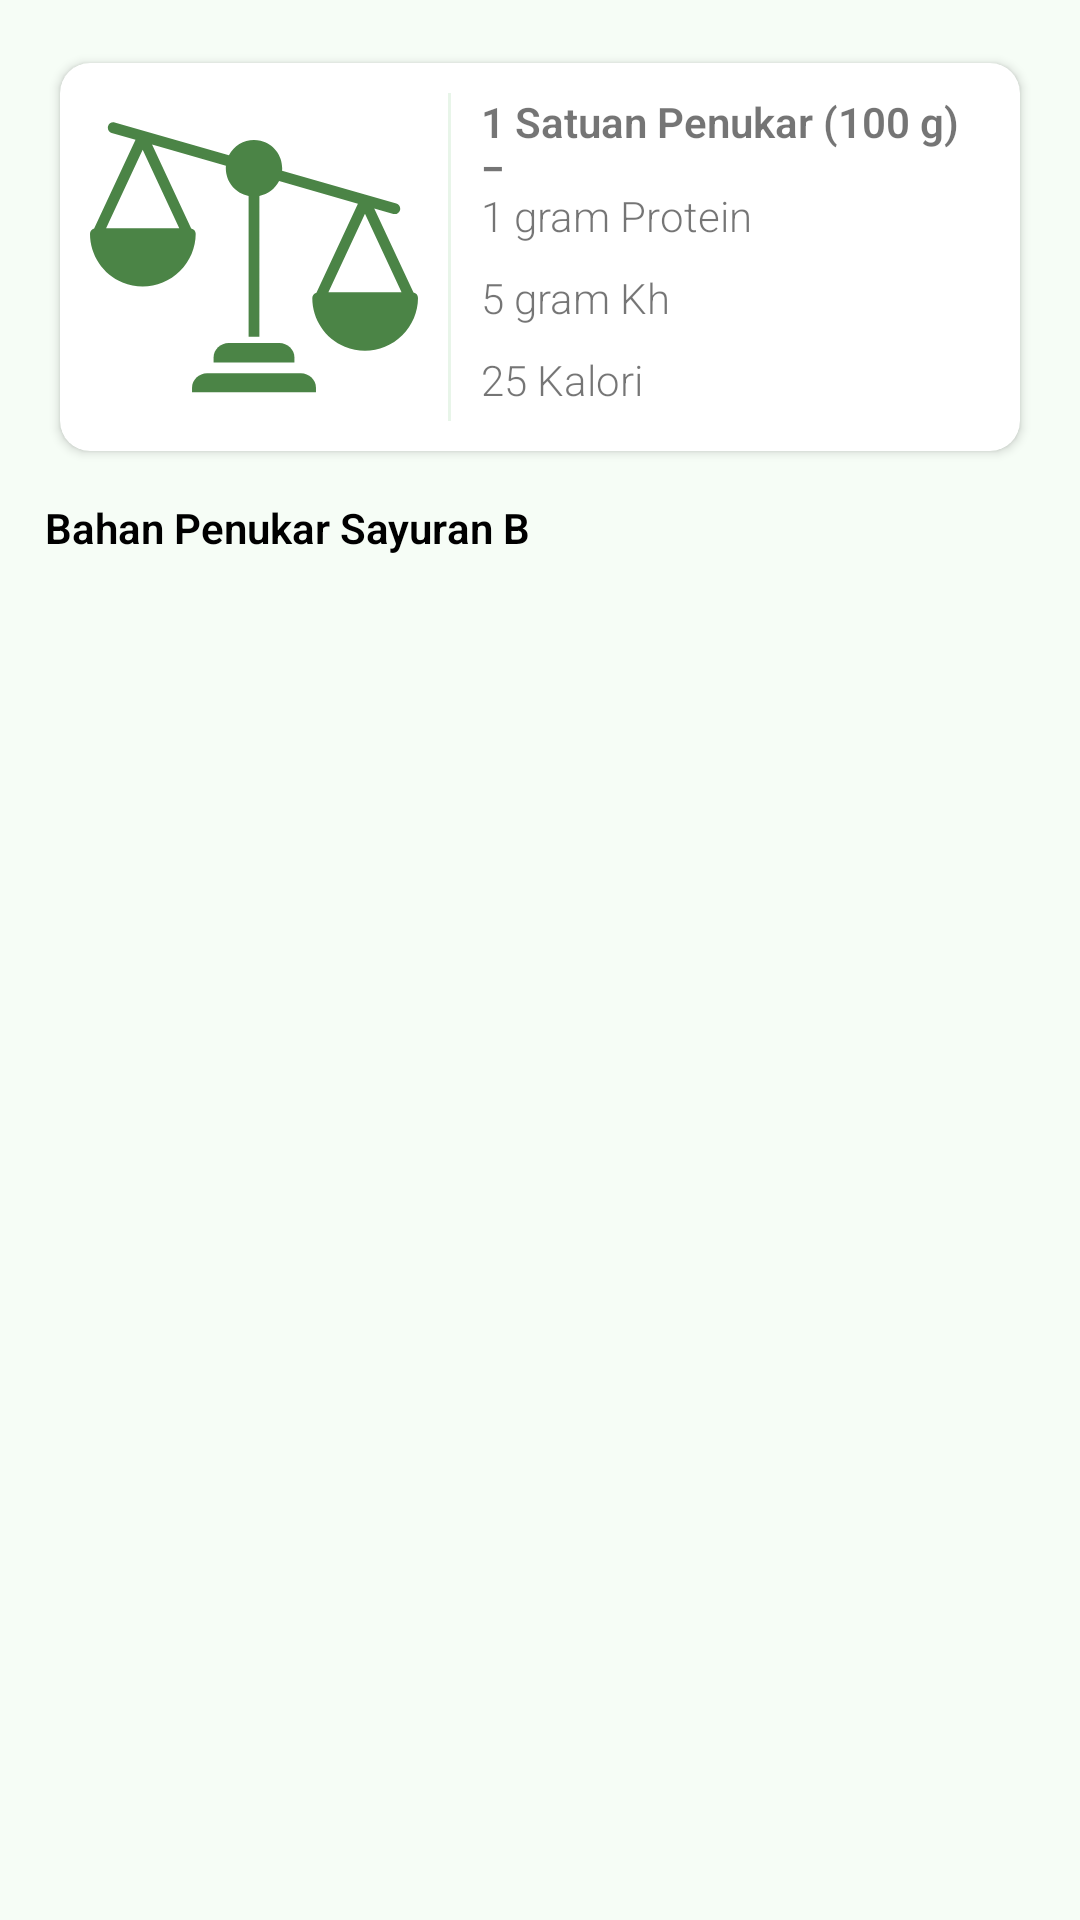

Named icons in this screenshot (1080px×1920px) and their bounding boxes, box(x1, y1, x2, y2):
balance: box(90, 122, 418, 393)
